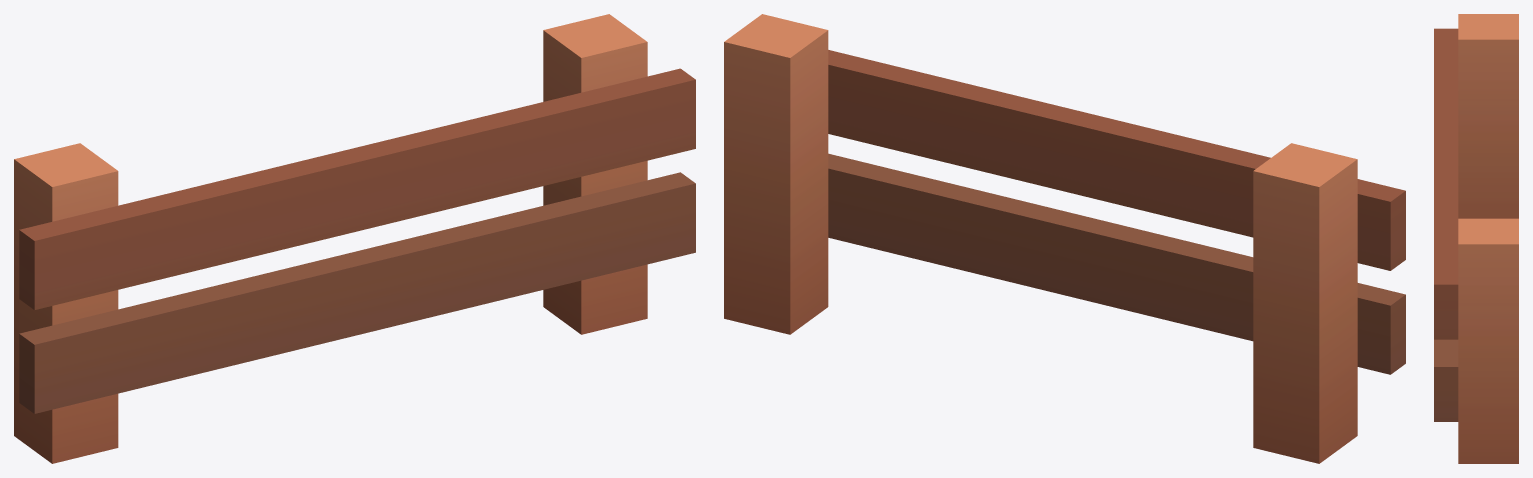
File: kenney-platformer-fence-straight.glb
3 renders of one model, left to right at view 1: azimuth 30°, elevation 25°; view 2: azimuth 150°, elevation 25°; view 3: azimuth 270°, elevation 25°, orthographic. The views are drawn at different scales.
Parts seen in each view (by area): view 1: fence-straight; view 2: fence-straight; view 3: fence-straight.
Boxes of the visible parts, x1=… form: fence-straight: x1=14, y1=14, x2=695, y2=463; fence-straight: x1=724, y1=14, x2=1405, y2=463; fence-straight: x1=1434, y1=14, x2=1518, y2=463.
Bounding box in the file's own units: 1 × 0.3999 × 0.14.
1 material, 1 textured.
